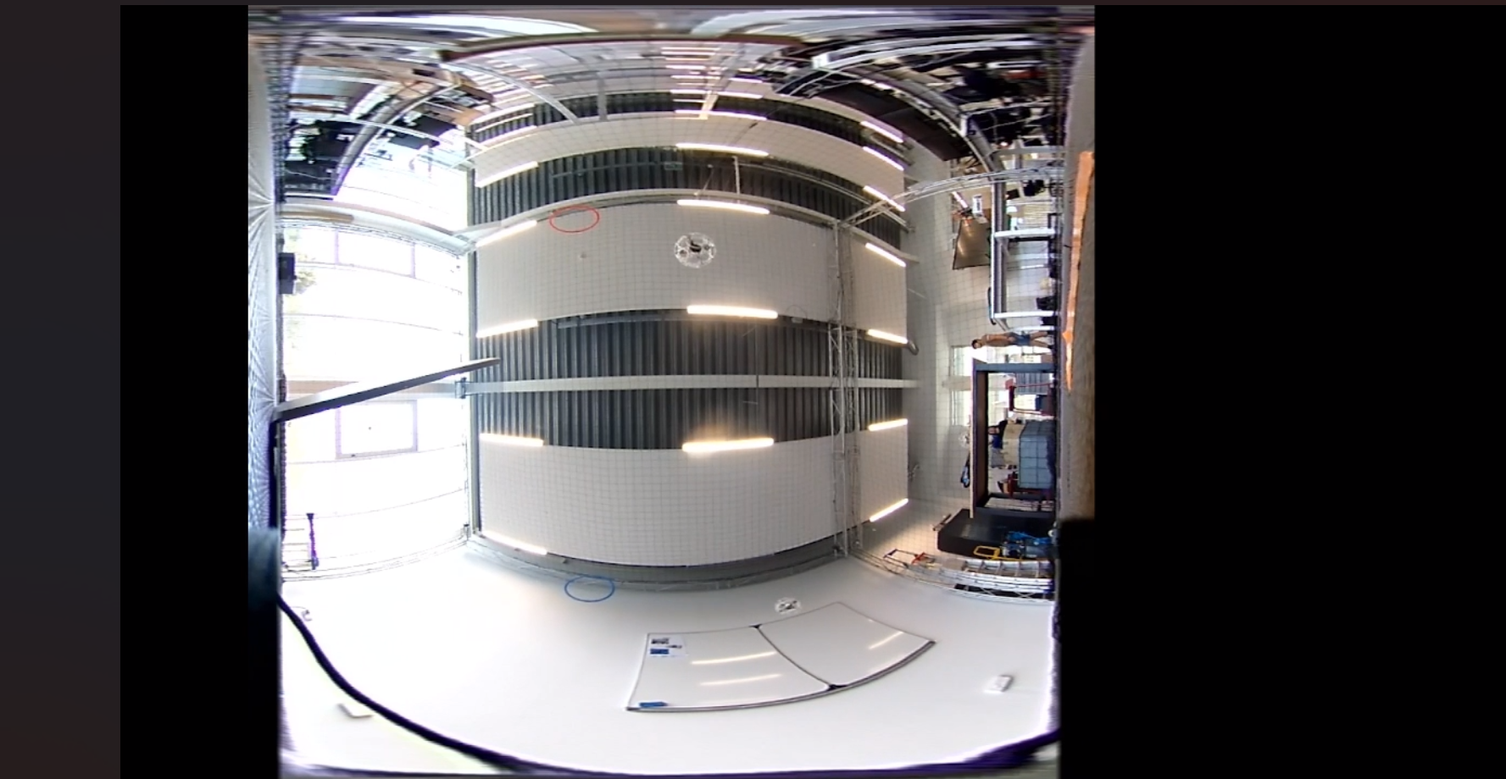Drone: (669, 230, 715, 272), (771, 597, 801, 617)
